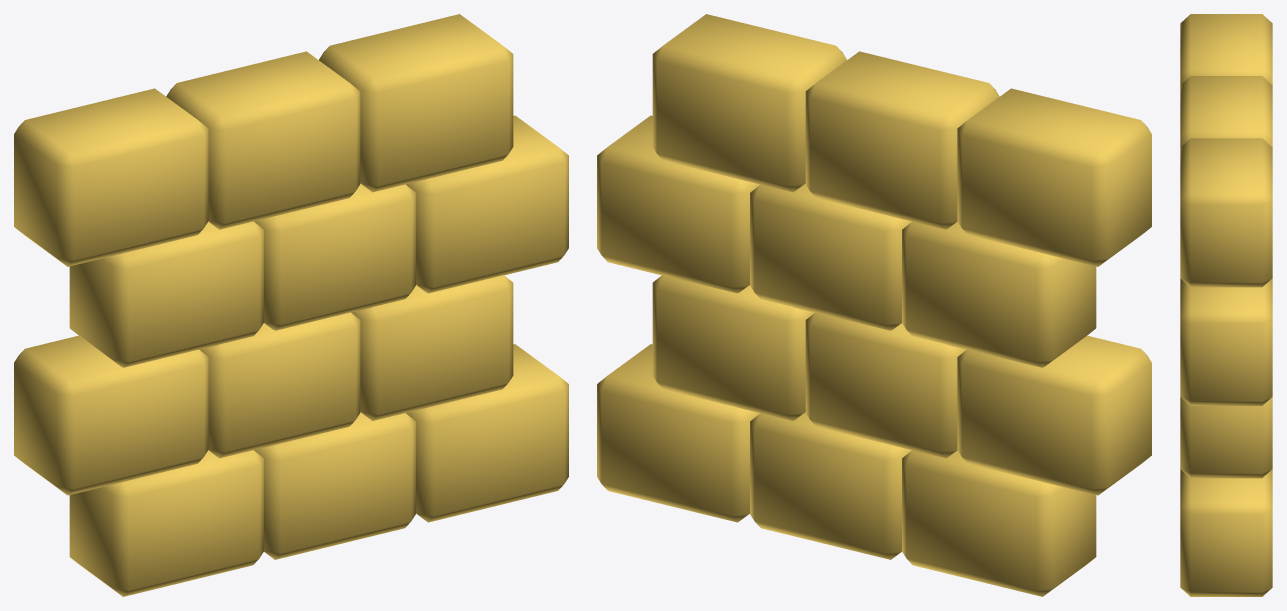
Rendered from brick_wall_2.fbx.
3 renders of one model, left to right at view 1: azimuth 30°, elevation 25°; view 2: azimuth 150°, elevation 25°; view 3: azimuth 270°, elevation 25°, orthographic. The views are drawn at different scales.
Visible parts, largest first — view 1: brick_wall_2; view 2: brick_wall_2; view 3: brick_wall_2.
Boxes of the visible parts, bbox=[...] form: brick_wall_2: bbox=[14, 14, 568, 596]; brick_wall_2: bbox=[597, 14, 1151, 596]; brick_wall_2: bbox=[1180, 14, 1272, 596].
Size of the model in its own units: 415 by 355 by 77.66.
